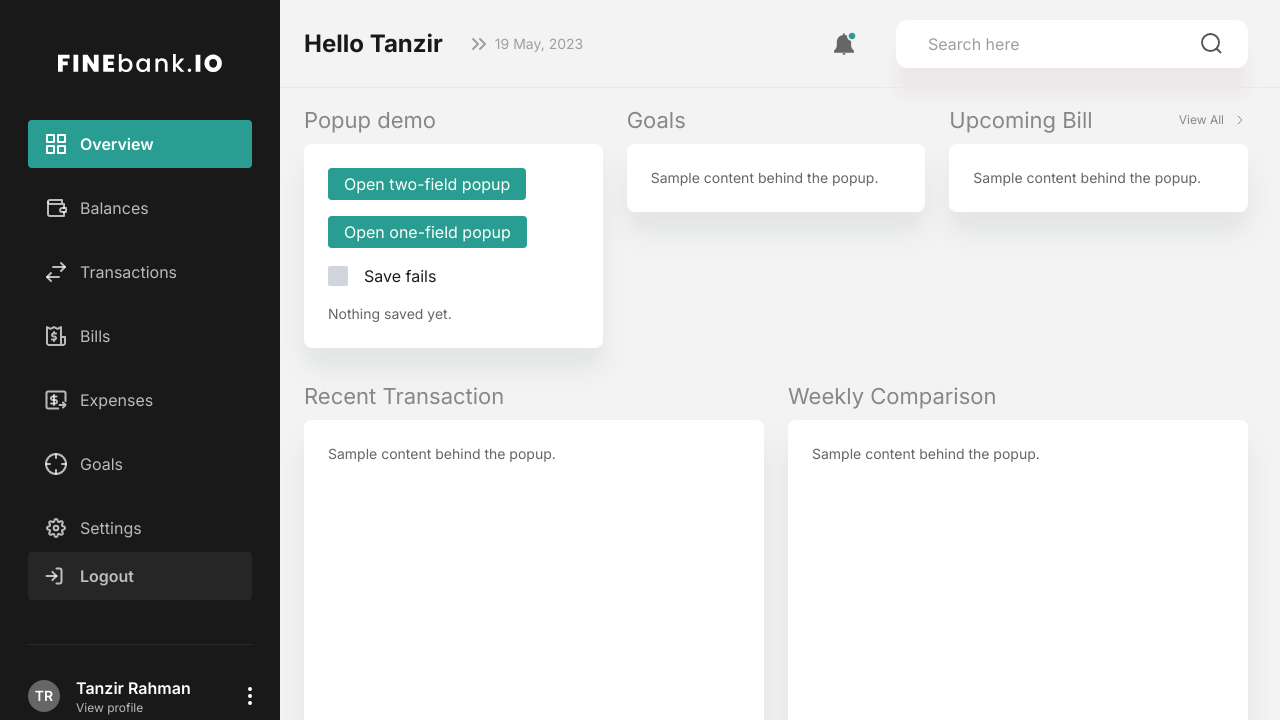
Test: popup demo page › opens the two-field popup and shows the cents read on Save
This screenshot has width=1280, height=720.
Click the button "Open two-field popup". click: coordinates (427, 184)
box: x1=328 y1=168 x2=526 y2=200
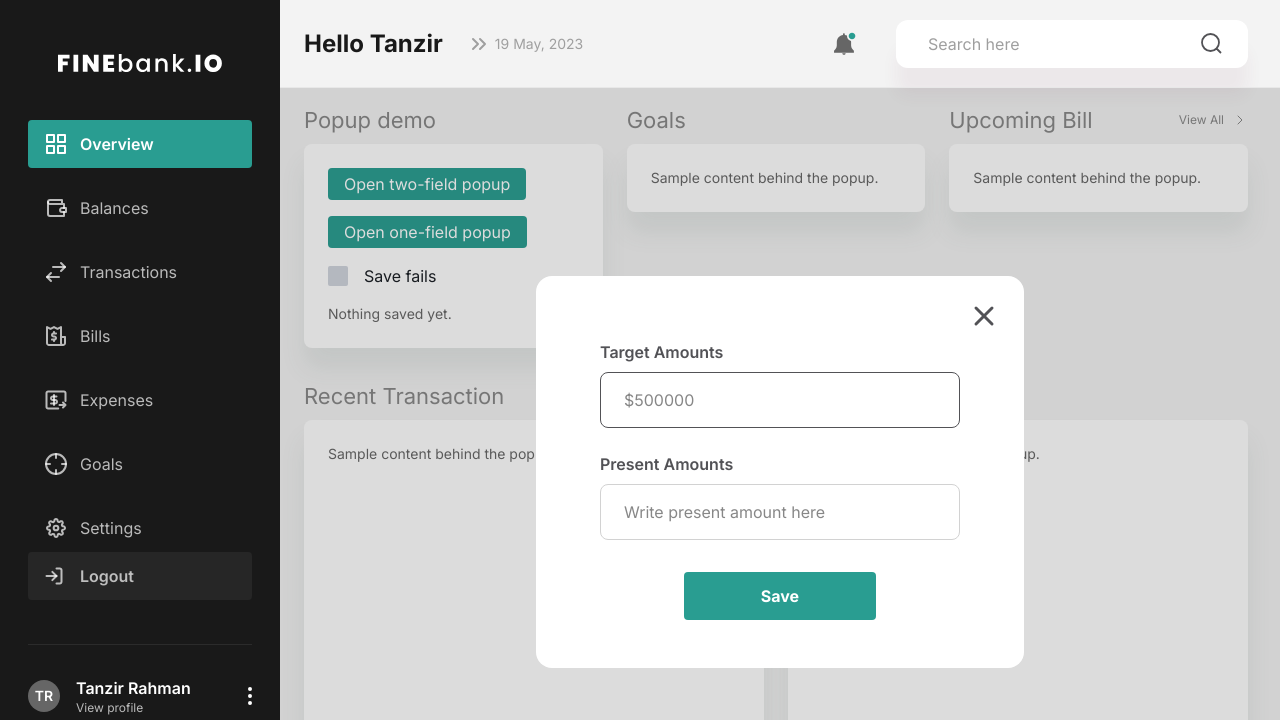
Result: the field labelled "Target Amounts" holds "500000" at x1=634 y1=373 x2=936 y2=427
Result: the field labelled "Present Amounts" is empty at x1=624 y1=485 x2=936 y2=539
Click the button "Save". click: coordinates (780, 596)
box: x1=684 y1=572 x2=876 y2=620
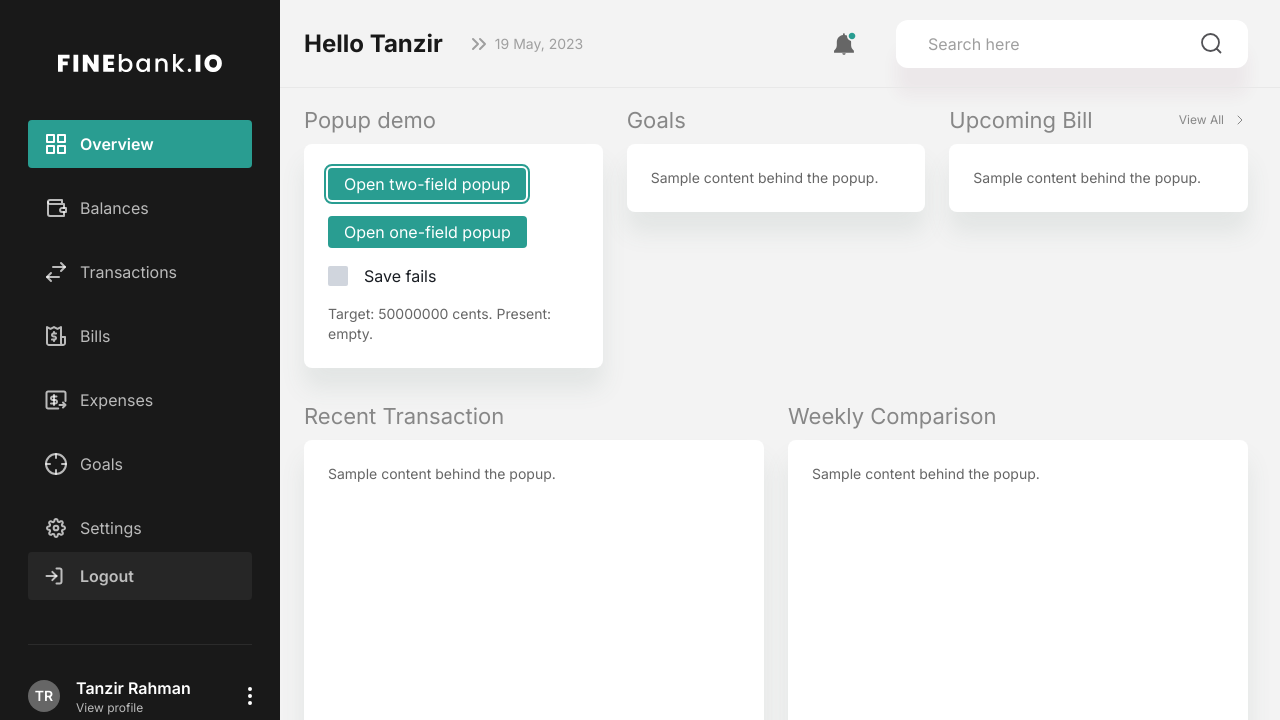
Result: the dialog is gone
Result: the message reads "Target: 50000000 cents. Present: empty." at x1=328 y1=305 x2=551 y2=342
